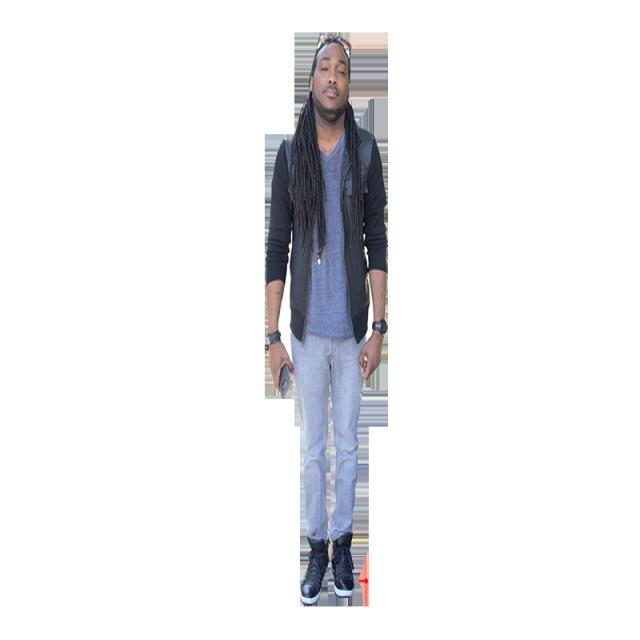jovem: (265, 23, 403, 619)
